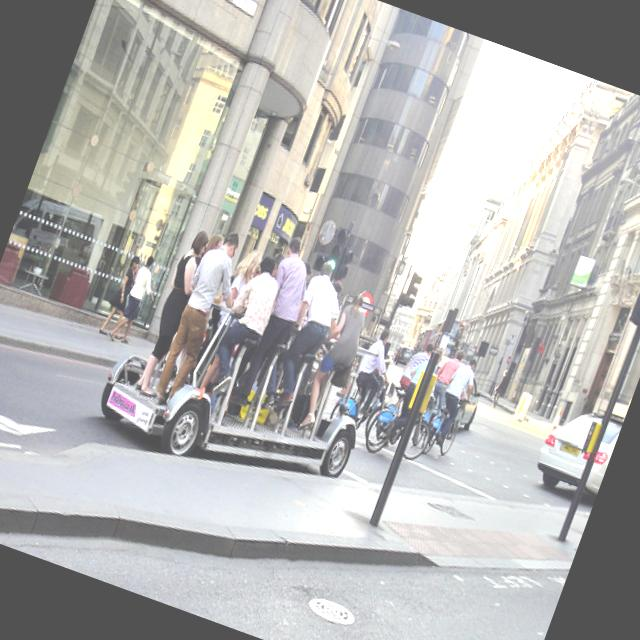Vehicle: (528, 394, 625, 504), (452, 375, 488, 433), (389, 344, 416, 369)
